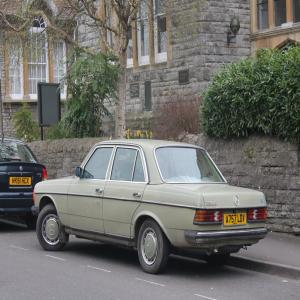Vehicle-registration-plate: (225, 210, 248, 227), (11, 177, 31, 187)
